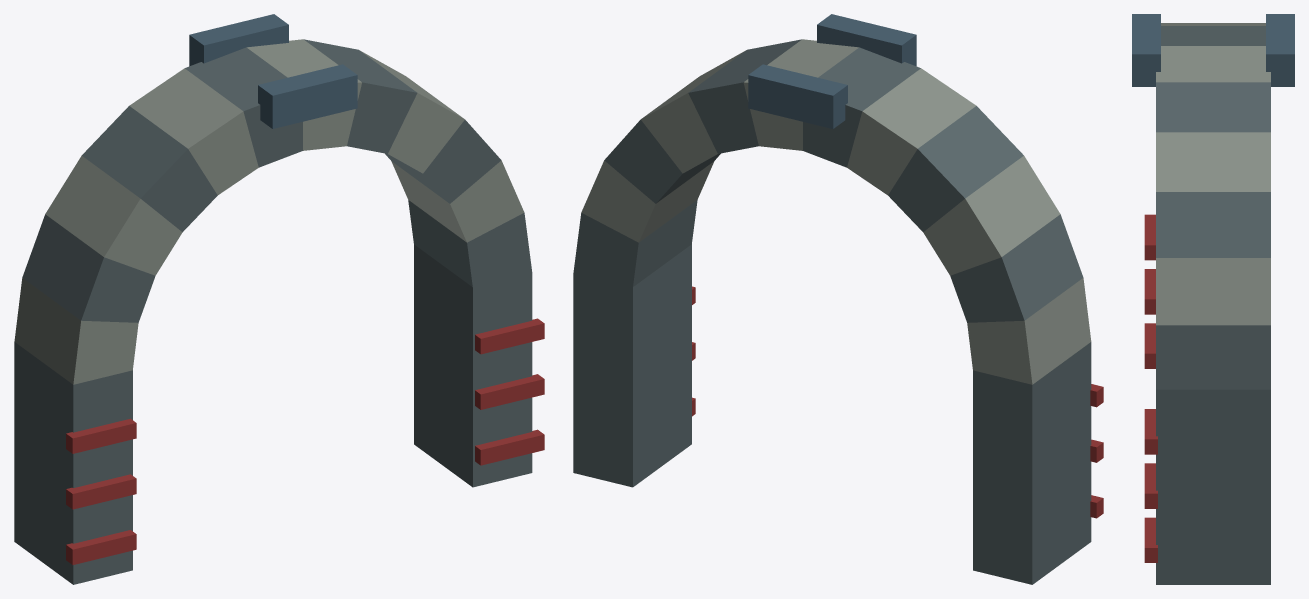
The model's file is PirateCove_ArchGate_Standard.glb.
3 renders of one model, left to right at view 1: azimuth 30°, elevation 25°; view 2: azimuth 150°, elevation 25°; view 3: azimuth 270°, elevation 25°, orthographic. The views are drawn at different scales.
Parts seen in each view (by area): view 1: PirateCove_ArchGate_Standard; view 2: PirateCove_ArchGate_Standard; view 3: PirateCove_ArchGate_Standard.
Part boxes in pixels (left/top/right/bottom): PirateCove_ArchGate_Standard: left=14, top=14, right=544, bottom=584; PirateCove_ArchGate_Standard: left=573, top=14, right=1103, bottom=584; PirateCove_ArchGate_Standard: left=1132, top=14, right=1294, bottom=584.
Bounding box in the file's own units: 2.22 × 2.04 × 0.68.
